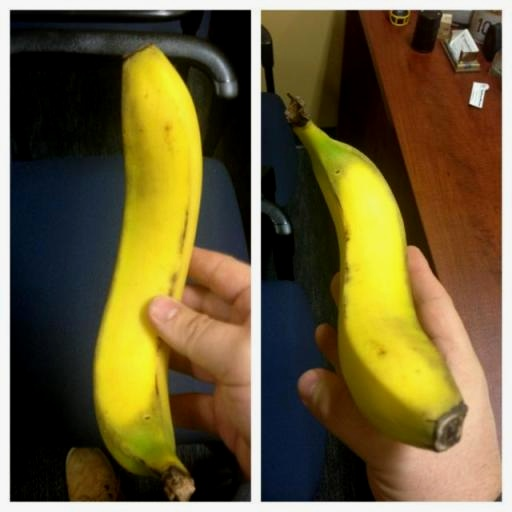fruit: (287, 96, 467, 451), (94, 45, 202, 499)
